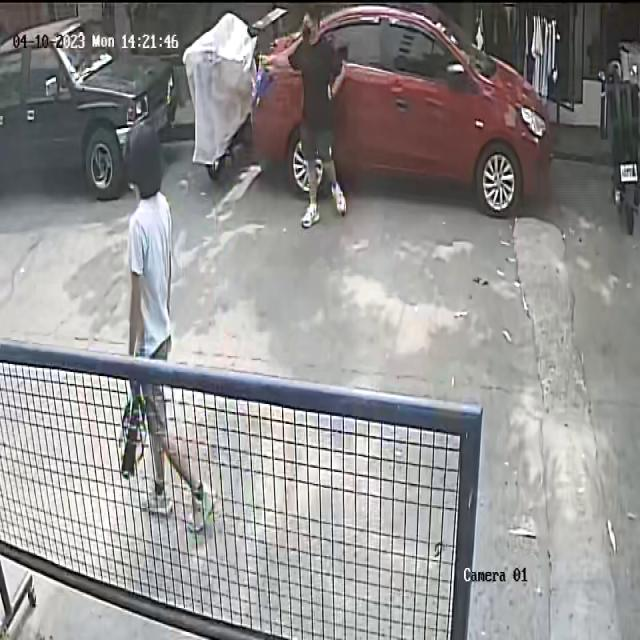garbage_dumping: (116, 372, 144, 482)
